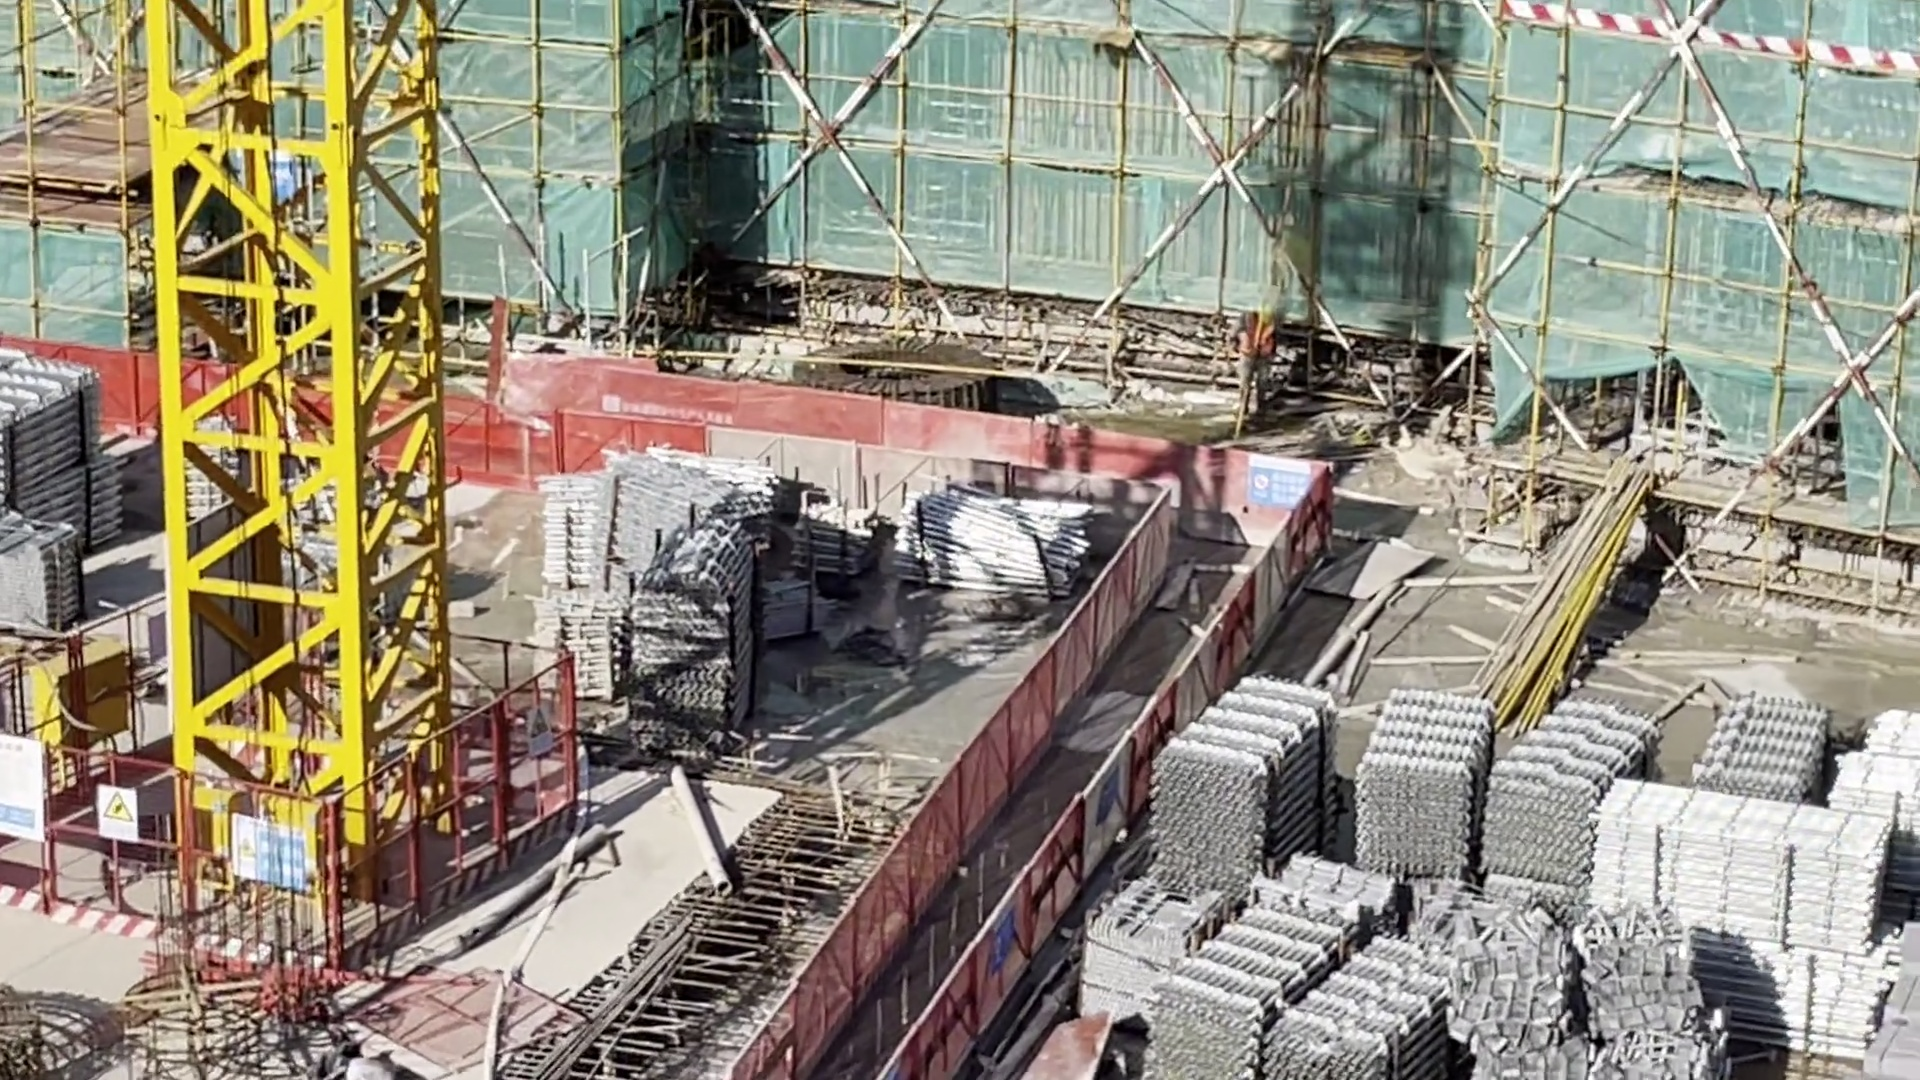ebox: (33, 646, 128, 749)
fence: (725, 506, 1301, 1080), (451, 358, 1242, 545)
person: (1232, 307, 1271, 420)
scaffold: (1582, 780, 1886, 1064), (1370, 692, 1655, 895), (1147, 908, 1447, 1080), (1156, 685, 1339, 873), (547, 464, 778, 585), (627, 533, 740, 746), (1, 362, 125, 551), (913, 489, 1081, 599), (1701, 696, 1838, 808), (529, 596, 617, 711), (1, 519, 81, 646), (790, 500, 877, 581)
slogan: (232, 818, 308, 891), (1247, 454, 1313, 515), (99, 788, 139, 842), (989, 907, 1013, 966), (528, 704, 554, 751)
